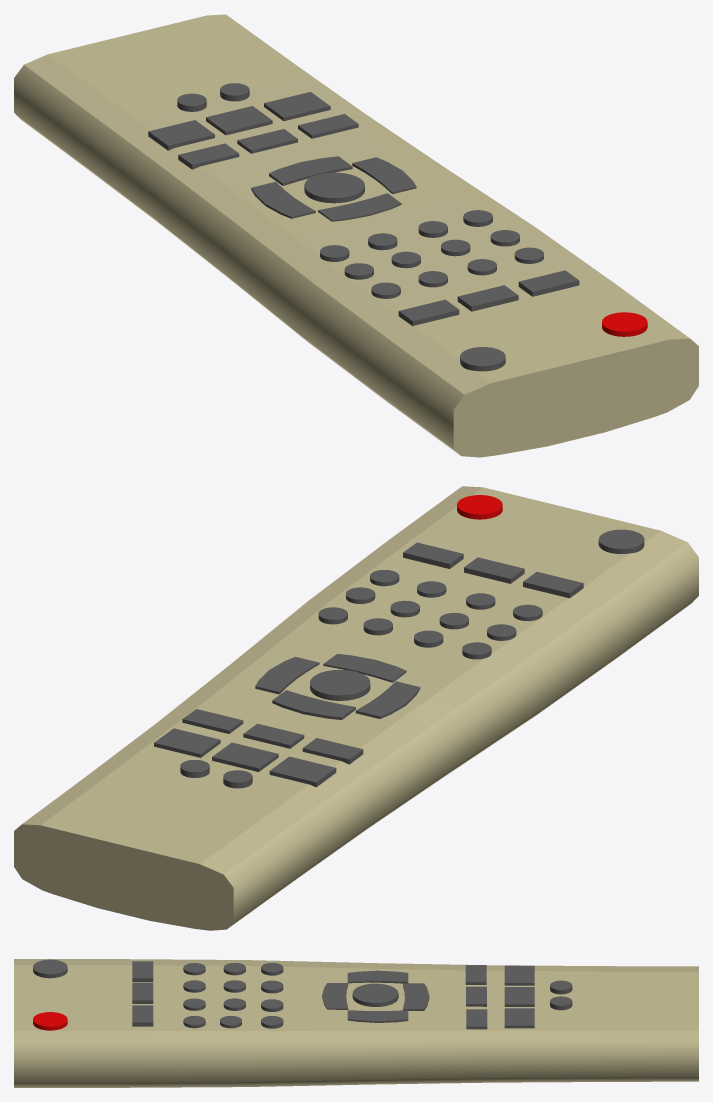
Rendered from Controller.fbx.
3 views of the same model, one above another, from view 1: azimuth 30°, elevation 25°; view 2: azimuth 150°, elevation 25°; view 3: azimuth 270°, elevation 25° (orthographic). The views are drawn at different scales.
Parts seen in each view (by area): view 1: Cylinder.009; view 2: Cylinder.009; view 3: Cylinder.009.
Part boxes in pixels (<box>): Cylinder.009: <box>14,14,698,457</box>; Cylinder.009: <box>14,486,698,930</box>; Cylinder.009: <box>14,959,698,1087</box>.
Bounding box in the file's own units: 254 × 81.27 × 811.
